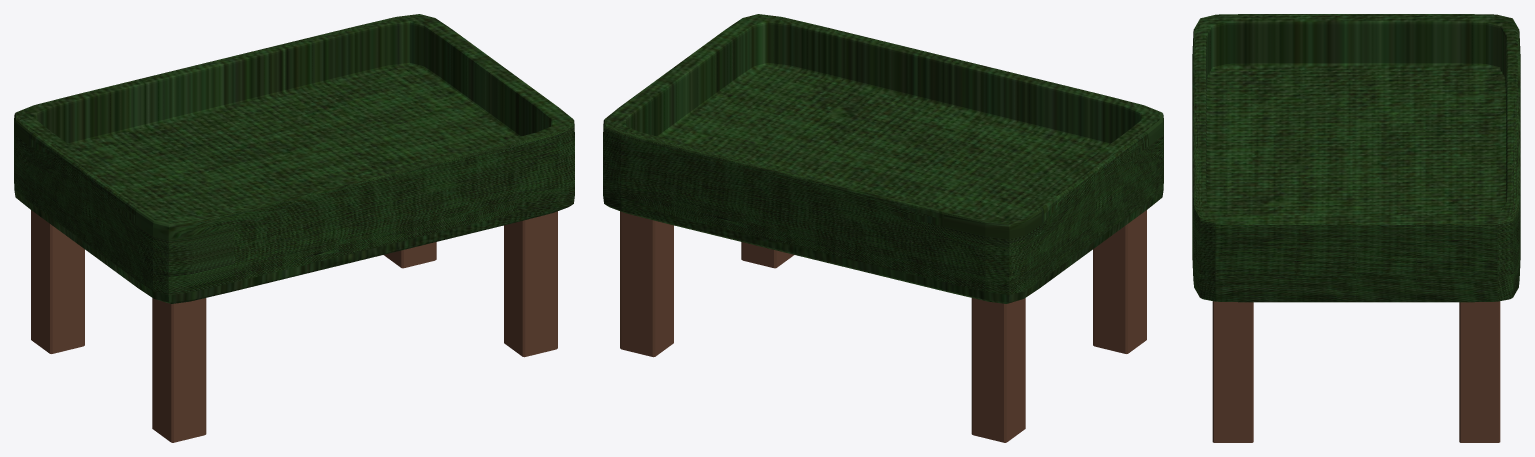
Rendered from Tisch_3_diesmal_richtig.fbx.
3 renders of one model, left to right at view 1: azimuth 30°, elevation 25°; view 2: azimuth 150°, elevation 25°; view 3: azimuth 270°, elevation 25°, orthographic.
Visible parts, largest first — view 1: Tisch, Beine; view 2: Tisch, Beine; view 3: Tisch, Beine.
Boxes of the visible parts, left/top/right/bottom form: Tisch: left=14, top=14, right=574, bottom=303; Beine: left=31, top=210, right=557, bottom=442; Tisch: left=603, top=14, right=1163, bottom=303; Beine: left=620, top=210, right=1146, bottom=442; Tisch: left=1192, top=14, right=1520, bottom=302; Beine: left=1212, top=301, right=1500, bottom=442.
Bounding box in the file's own units: 604 × 307 × 398.
Materials: 2 (2 with a texture image).
